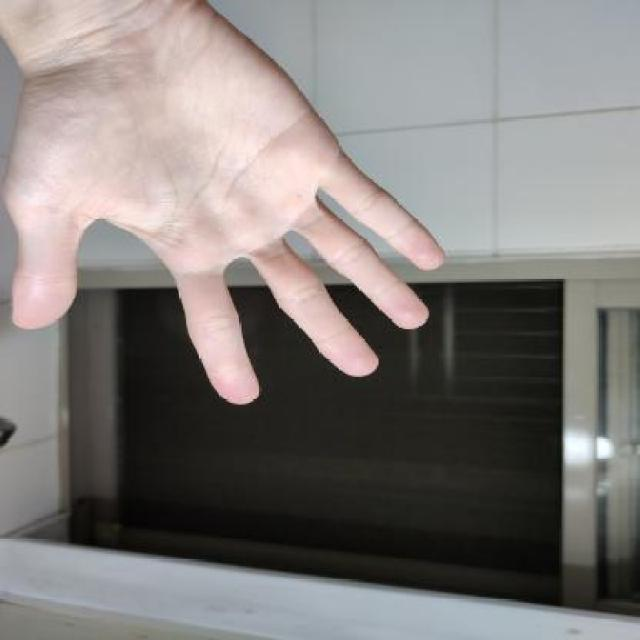bare_hand: (1, 1, 458, 424)
